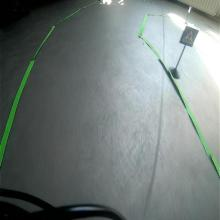crosswalk: (178, 24, 199, 48)
